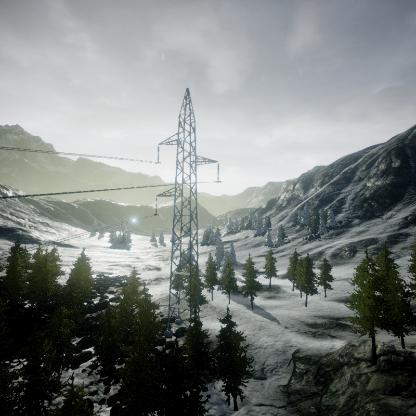tower: (152, 85, 224, 334)
